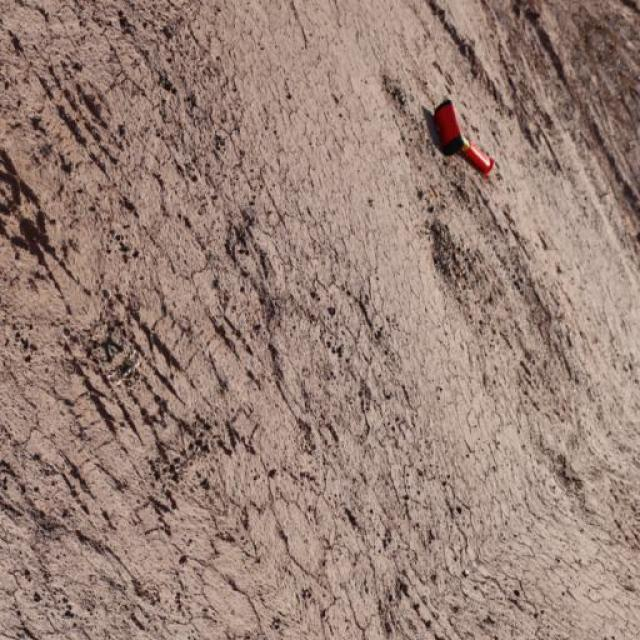mallet: (431, 96, 495, 176)
